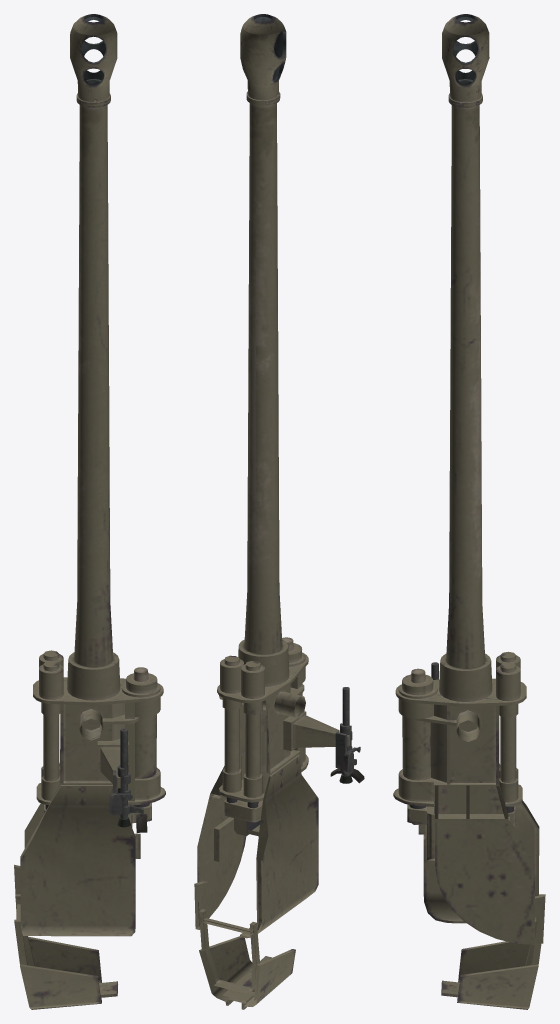
File: Gun_02.glb
3 renders of one model, left to right at view 1: azimuth 90°, elevation 25°; view 2: azimuth 150°, elevation 25°; view 3: azimuth 270°, elevation 25°, orthographic. The views are drawn at different scales.
Visible parts, largest first — view 1: set_0_group_0; view 2: set_0_group_0; view 3: set_0_group_0.
Boxes of the visible parts, bbox=[...] form: set_0_group_0: bbox=[14, 14, 165, 1009]; set_0_group_0: bbox=[194, 14, 364, 1009]; set_0_group_0: bbox=[393, 14, 545, 1009].
Size of the model in its own units: 0.6665 by 5.26 by 0.7343.
1 material, 1 textured.
